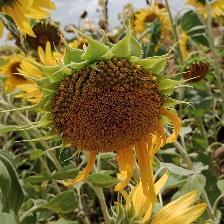sunflower: (7, 19, 205, 188)
